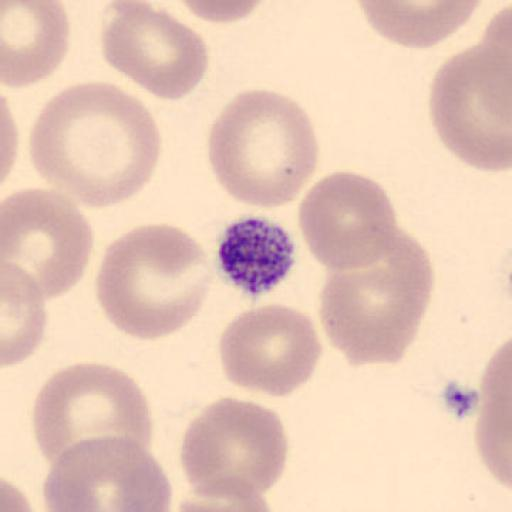Platelet: (213, 213, 299, 298)
RBC: (28, 79, 161, 212), (317, 229, 435, 369), (94, 222, 213, 342), (205, 88, 321, 210), (31, 360, 155, 470), (178, 395, 290, 502), (318, 265, 430, 368), (428, 41, 512, 175), (100, 0, 209, 102), (2, 186, 95, 302), (297, 169, 398, 274), (216, 302, 323, 399), (41, 434, 172, 512), (342, 221, 436, 318), (354, 0, 483, 49), (2, 0, 71, 89), (473, 339, 512, 495), (2, 261, 48, 367), (172, 471, 277, 512), (115, 458, 174, 512), (42, 465, 107, 512), (171, 0, 270, 24), (0, 92, 20, 189), (172, 495, 272, 512), (160, 500, 281, 512), (0, 474, 34, 512)
